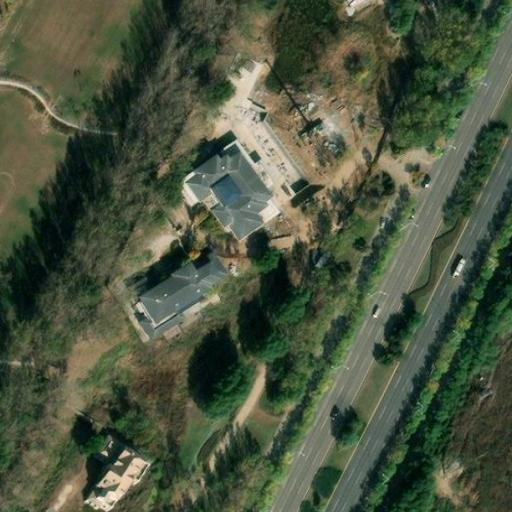building: (187, 151, 271, 242), (138, 248, 232, 326), (86, 447, 148, 512), (266, 233, 296, 254)
